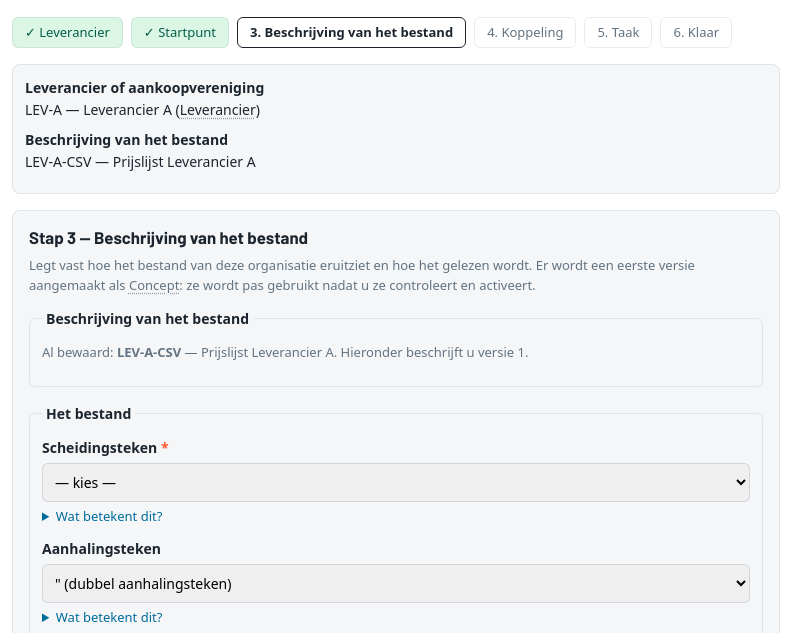
NewSupplierWizardPage (NT-6) › hervatten: bestaande definitie zonder versie stuurt enkel de versie
This screenshot has width=797, height=633.
Expected: the heading "Stap 3 — Beschrijving van het bestand" is shown, [29,227,308,247]
Expected: the element with test id "wizard-definition-known" shows "LEV-A-CSV", [117,342,181,360]
Select "; (puntkomma)" in the dropdown labelled "Scheidingsteken *" at (396, 482), box [42,463,750,502]
(page scrolled)
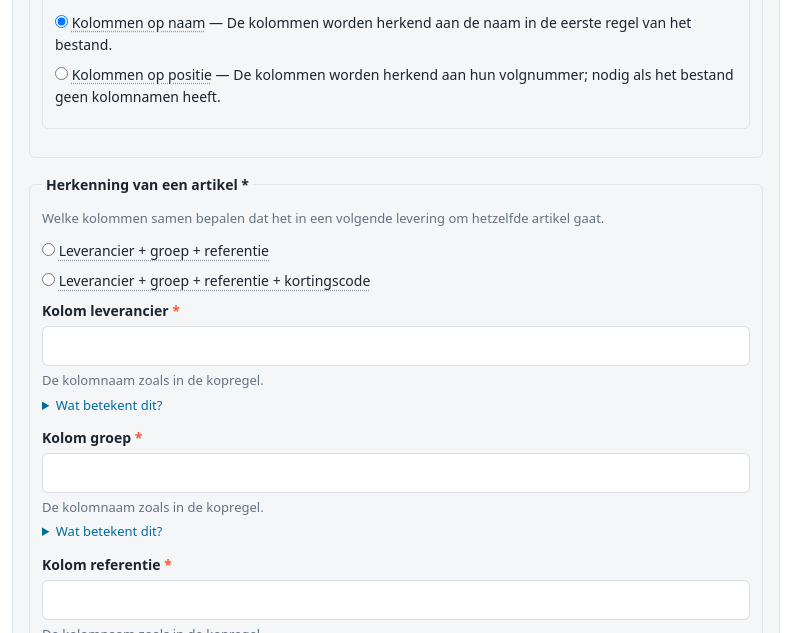
Click the radio button labelled "Leverancier + groep + referentie" at (48, 250), box [42,243,55,256]
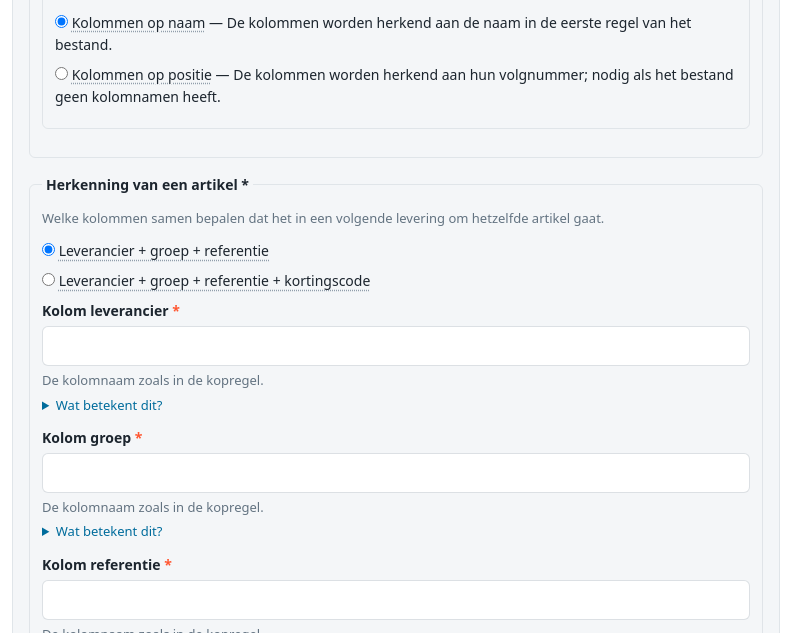
Type "LEV" into the field labelled "Kolom leverancier *" at (396, 346), box [42,326,750,366]
Type "GRP" into the field labelled "Kolom groep *" at (396, 473), box [42,453,750,493]
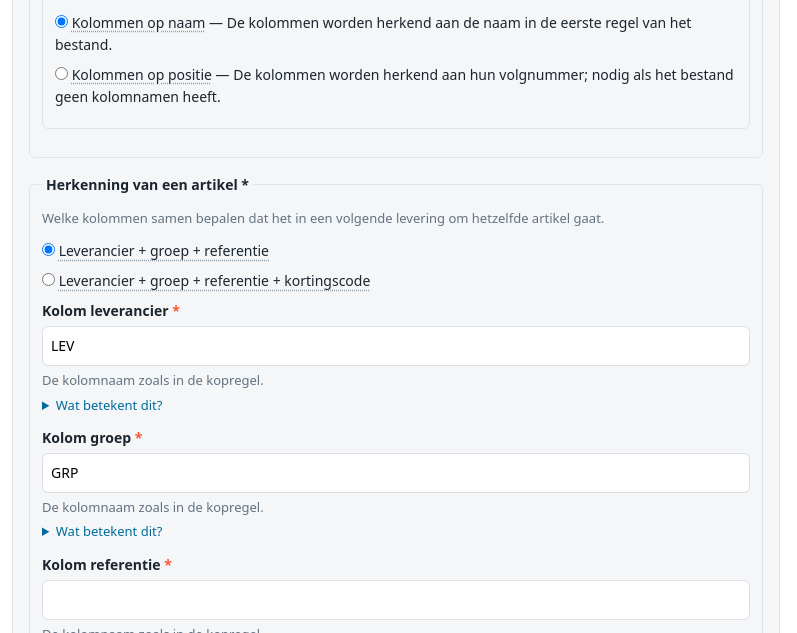
Type "ARTNR" into the field labelled "Kolom referentie *" at (396, 600), box [42,580,750,620]
(page scrolled)
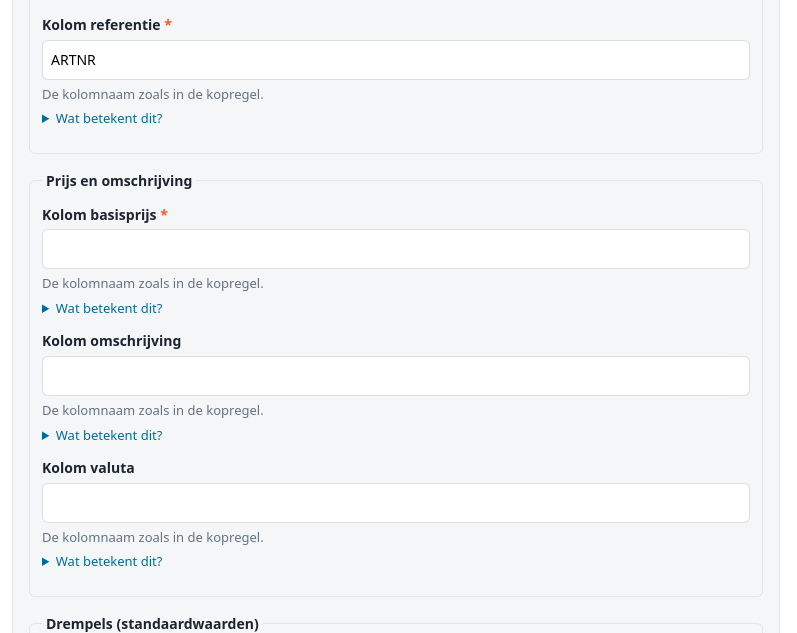
Type "PRIJS" into the field labelled "Kolom basisprijs *" at (396, 250), box [42,230,750,270]
(page scrolled)
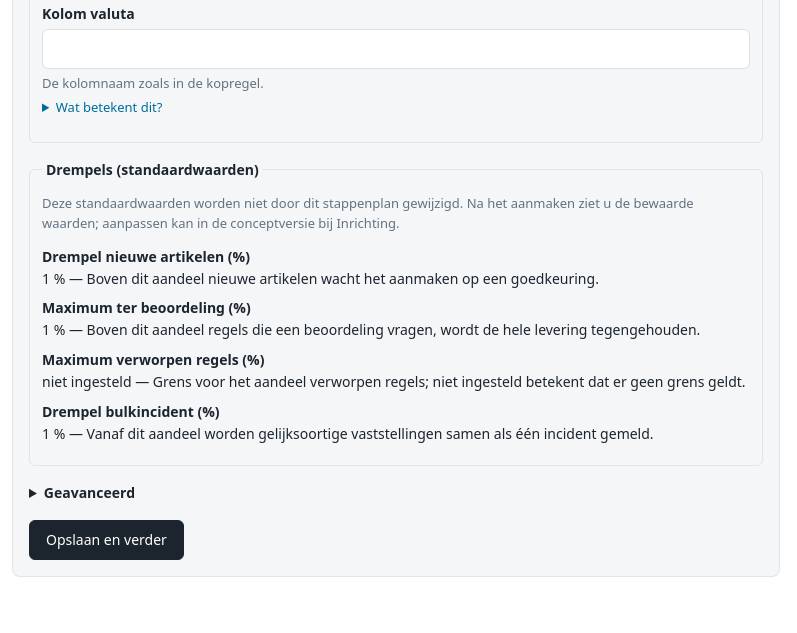
Click the button "Opslaan en verder" at (106, 540), box [29,520,184,560]
(page scrolled)
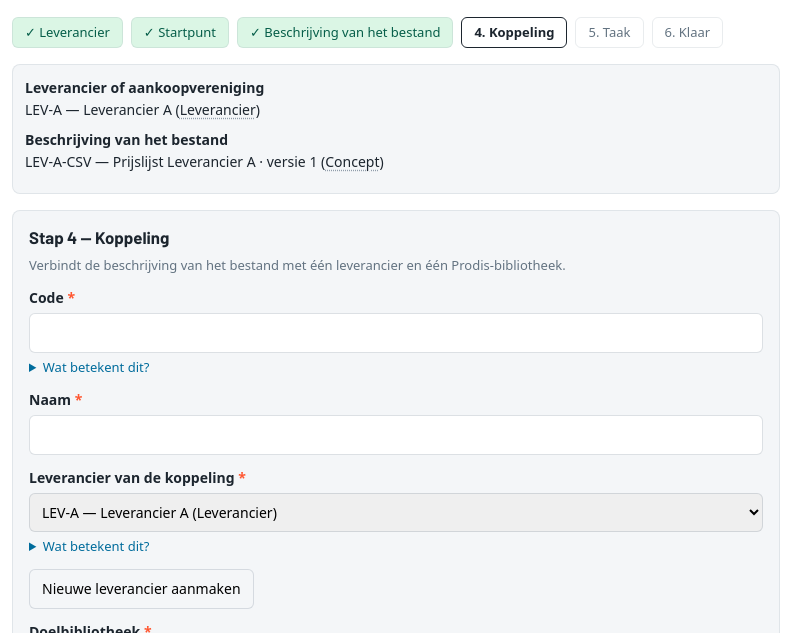
Now the heading "Stap 4 — Koppeling" is shown, box [29,227,169,247]
